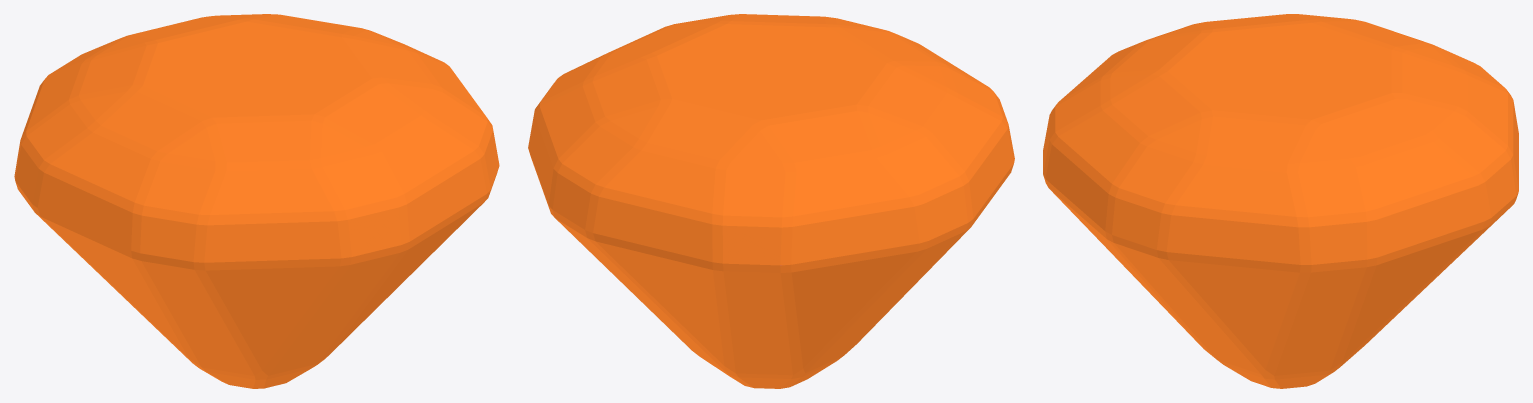
File: token3.glb
3 renders of one model, left to right at view 1: azimuth 30°, elevation 25°; view 2: azimuth 150°, elevation 25°; view 3: azimuth 270°, elevation 25°, orthographic.
Visible parts, largest first — view 1: Cone; view 2: Cone; view 3: Cone.
Part boxes in pixels (bbox=[...]): Cone: bbox=[14, 14, 499, 388]; Cone: bbox=[528, 14, 1014, 388]; Cone: bbox=[1043, 14, 1518, 388].
Bounding box in the file's own units: 1.71 × 1.18 × 1.67.
1 material, 1 textured.
